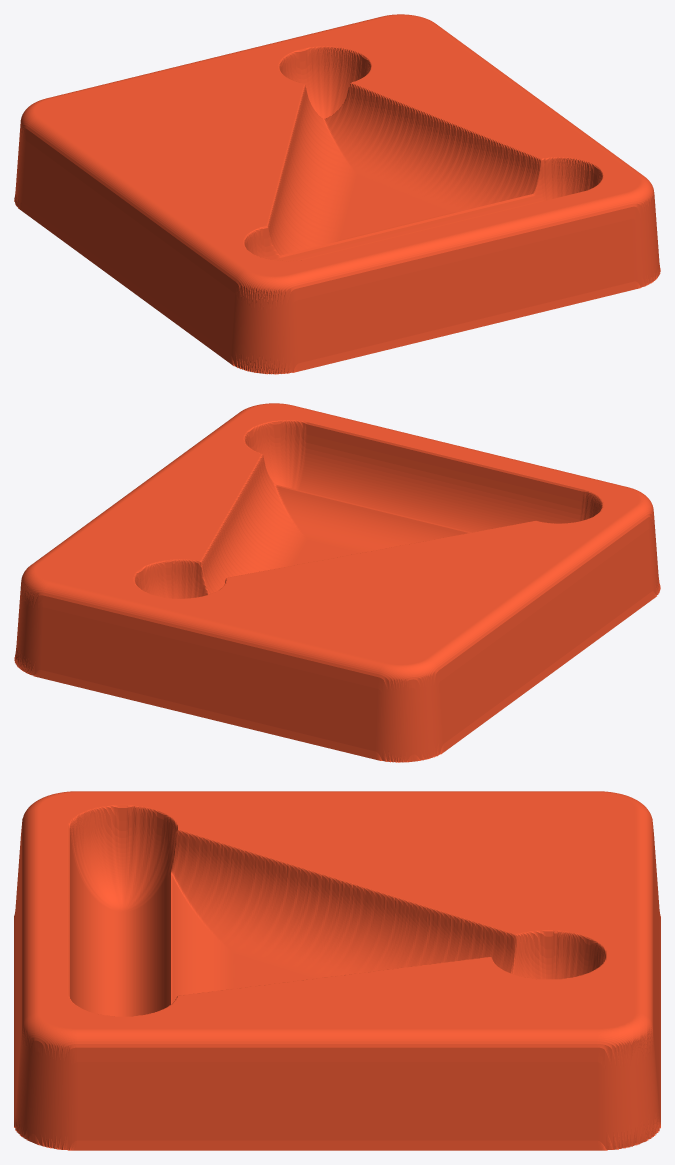
File: mold.glb
The picture shows the model from 3 angles, top to bottom: view 1: azimuth 30°, elevation 25°; view 2: azimuth 150°, elevation 25°; view 3: azimuth 270°, elevation 25°; orthographic projection. The views are drawn at different scales.
Parts seen in each view (by area): view 1: geometry_0; view 2: geometry_0; view 3: geometry_0.
Part boxes in pixels (left/top/right/bottom): geometry_0: left=14, top=14, right=660, bottom=374; geometry_0: left=14, top=403, right=660, bottom=762; geometry_0: left=14, top=791, right=660, bottom=1150.
Size of the model in its own units: 0.087 by 0.0175 by 0.0924.
